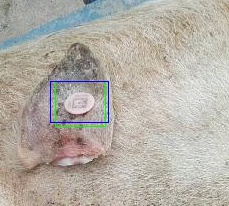text: (55, 81, 105, 126)
